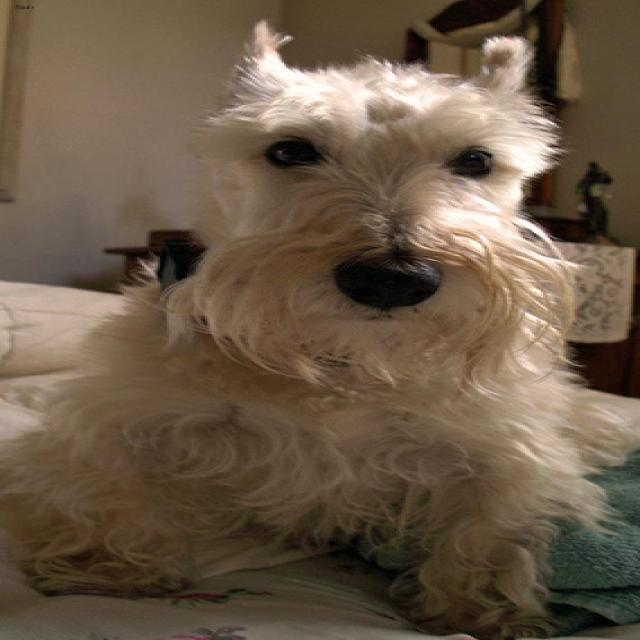dog-scottish_terrier: (2, 15, 635, 637)
